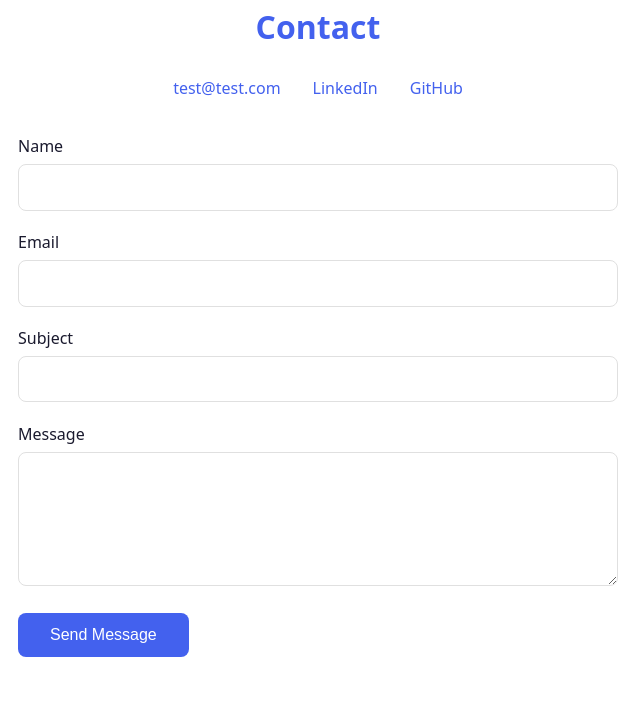
Test case: Contact › shows email format error
Type "invalid" into the field labelled "Email" at (318,283), box [18,260,618,306]
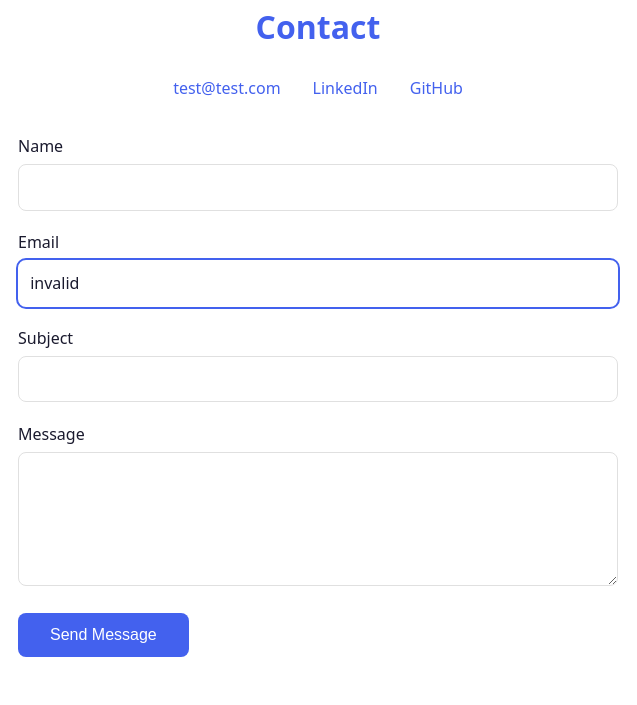
Click the button "Send Message" at (103,635), box [18,613,189,657]
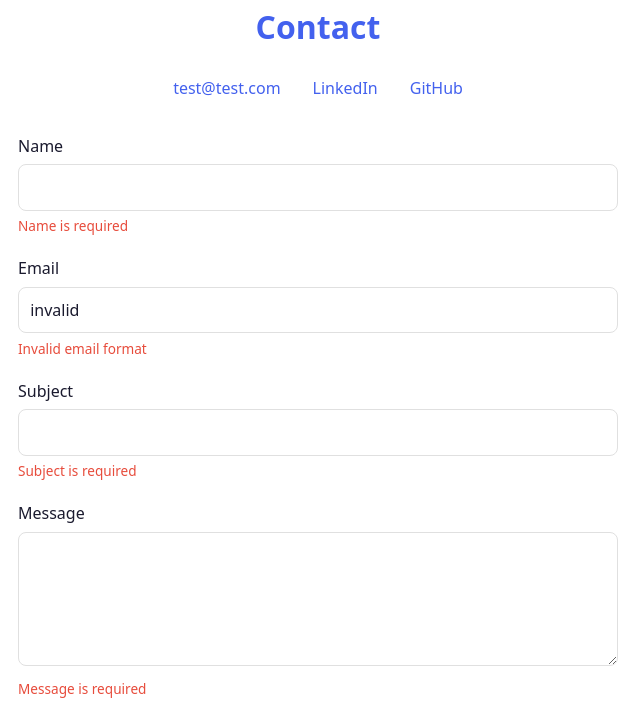
Result: the text "Invalid email format" is shown at [18,339,147,358]
